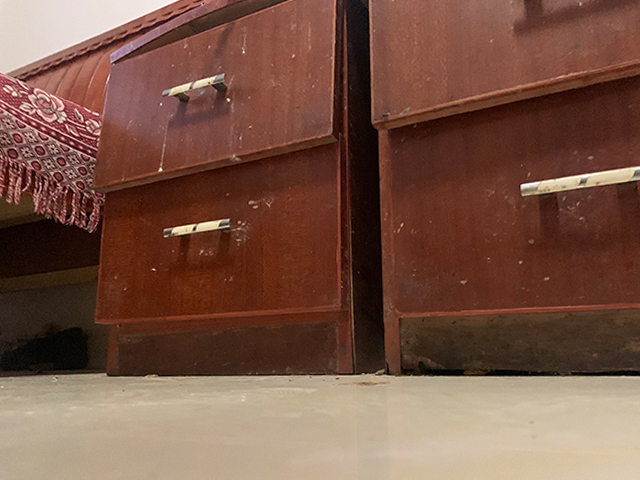cabinet: (93, 1, 640, 378)
